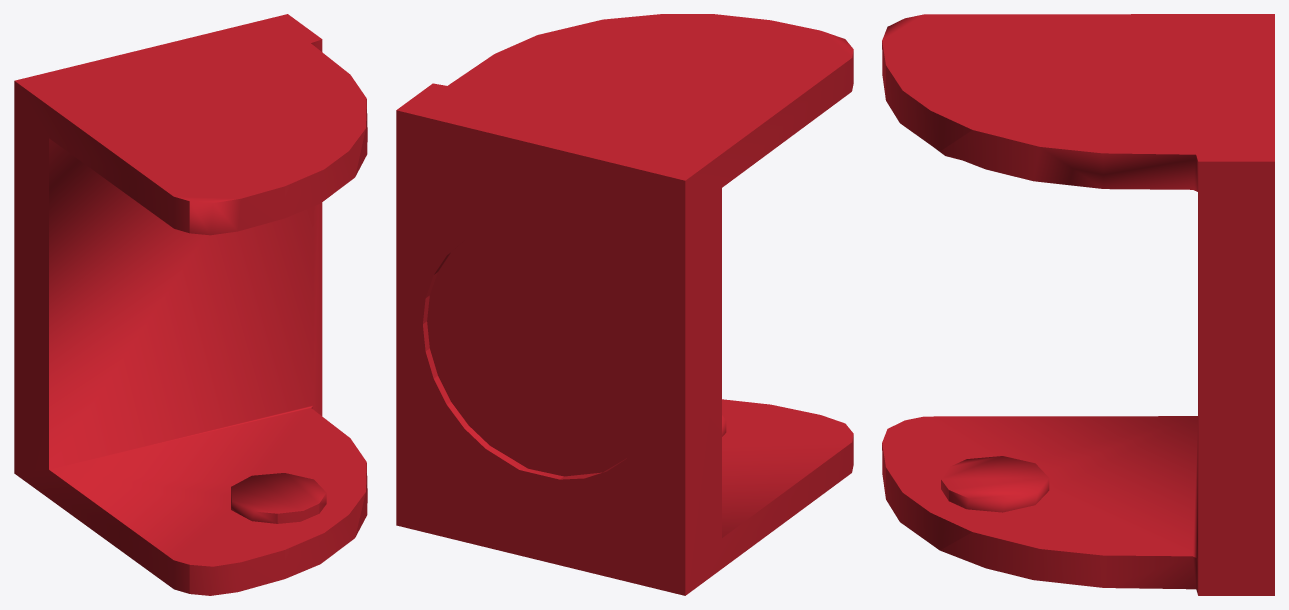
The model's file is 7_thumb.obj.
The picture shows the model from 3 angles, left to right: view 1: azimuth 30°, elevation 25°; view 2: azimuth 150°, elevation 25°; view 3: azimuth 270°, elevation 25°; orthographic projection. The views are drawn at different scales.
Parts seen in each view (by area): view 1: 7_thumb; view 2: 7_thumb; view 3: 7_thumb.
Boxes of the visible parts, x1,y1,x2,y2 form: 7_thumb: (14, 14, 367, 595); 7_thumb: (396, 14, 853, 595); 7_thumb: (882, 14, 1274, 595).
Size of the model in its own units: 0.0196 by 0.0269 by 0.022.
